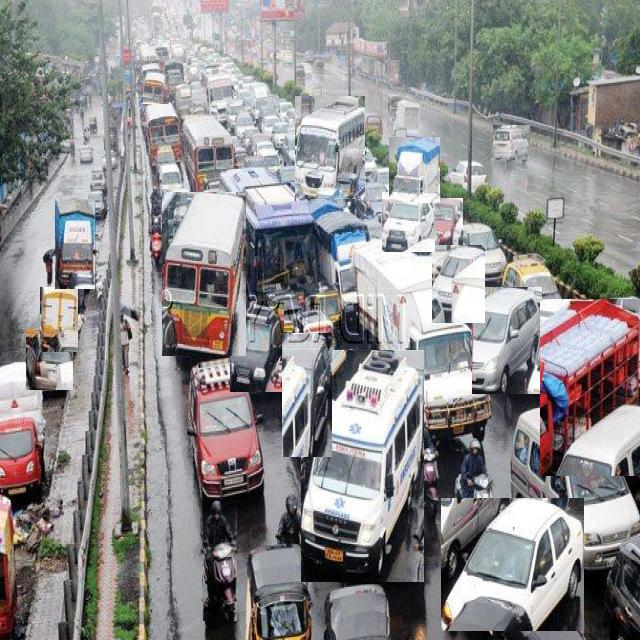autorickshaw: (245, 545, 311, 640), (266, 290, 301, 342), (305, 283, 342, 327), (296, 309, 334, 346)
bus: (162, 193, 245, 356), (220, 169, 315, 298), (295, 97, 365, 199), (182, 114, 235, 192), (145, 101, 181, 168), (143, 71, 168, 104)
car: (511, 407, 640, 577), (441, 499, 584, 631), (188, 358, 264, 499), (472, 287, 541, 394), (282, 333, 331, 457), (230, 301, 284, 392), (432, 246, 485, 323), (504, 257, 564, 313), (451, 223, 506, 281), (382, 193, 434, 252), (26, 329, 72, 390), (426, 199, 462, 245), (493, 125, 529, 160)
emergency: (301, 350, 424, 582)
motorcycle: (203, 500, 236, 621)
truck: (354, 240, 490, 436), (540, 300, 640, 476), (315, 210, 370, 340), (0, 362, 45, 496), (55, 201, 95, 289), (389, 137, 440, 203), (40, 287, 78, 352)
